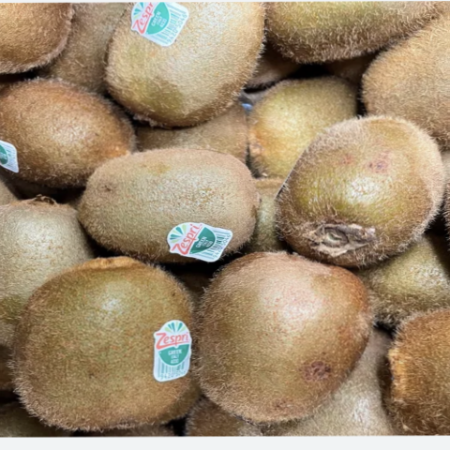kiwi: (10, 242, 215, 434), (174, 234, 375, 426), (281, 90, 446, 299), (73, 128, 279, 269), (84, 0, 272, 127)
